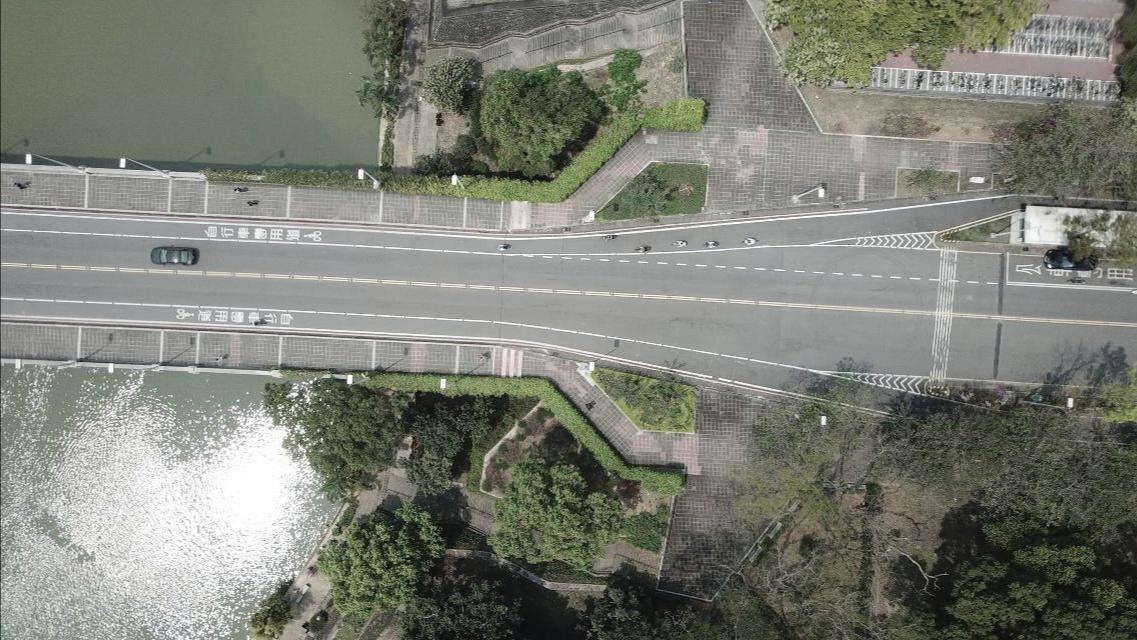vehicle: (1043, 248, 1099, 271), (150, 246, 196, 267)
